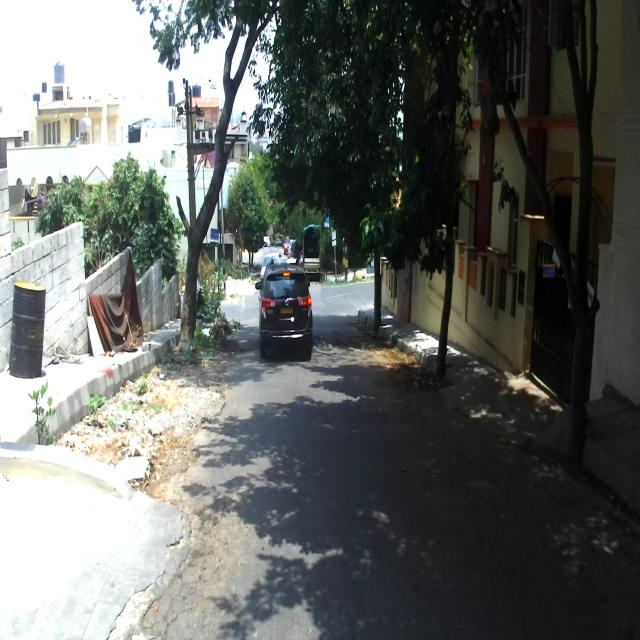barrier ahead at: (8, 279, 48, 389)
car ahead at: (260, 266, 313, 358)
tree ahead at: (535, 60, 613, 462), (178, 20, 246, 335), (420, 154, 466, 376), (348, 167, 404, 336)
